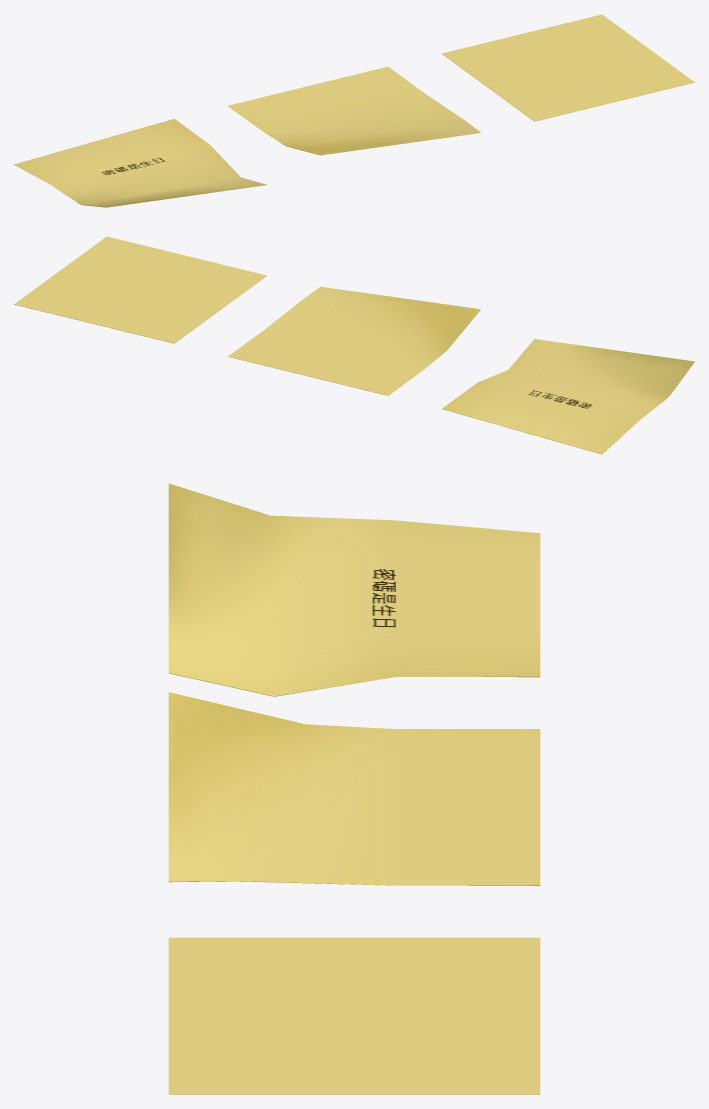
The model's file is Note.fbx.
The picture shows the model from 3 angles, top to bottom: view 1: azimuth 30°, elevation 25°; view 2: azimuth 150°, elevation 25°; view 3: azimuth 270°, elevation 25°; orthographic projection. The views are drawn at different scales.
Visible parts, largest first — view 1: Note001, Note002, Note003; view 2: Note003, Note002, Note001; view 3: Note003, Note002, Note001.
Part boxes in pixels (bbox=[...]): Note001: bbox=[442, 14, 694, 121]; Note002: bbox=[228, 66, 480, 155]; Note003: bbox=[14, 118, 266, 207]; Note003: bbox=[442, 339, 694, 454]; Note002: bbox=[228, 286, 480, 395]; Note001: bbox=[14, 236, 266, 343]; Note003: bbox=[168, 483, 540, 696]; Note002: bbox=[168, 692, 540, 885]; Note001: bbox=[168, 937, 540, 1094].
Size of the model in its own units: 27.5 by 1.27 by 7.52.
Materials: 3 (3 with a texture image).
